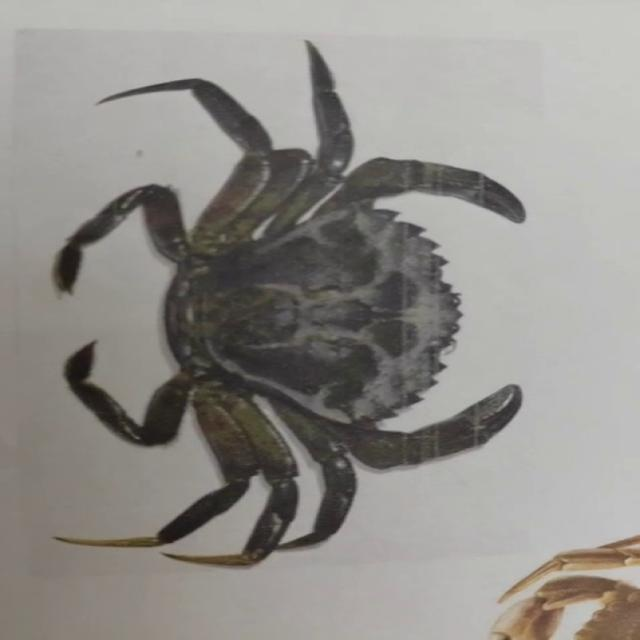egc: (55, 42, 525, 565)
